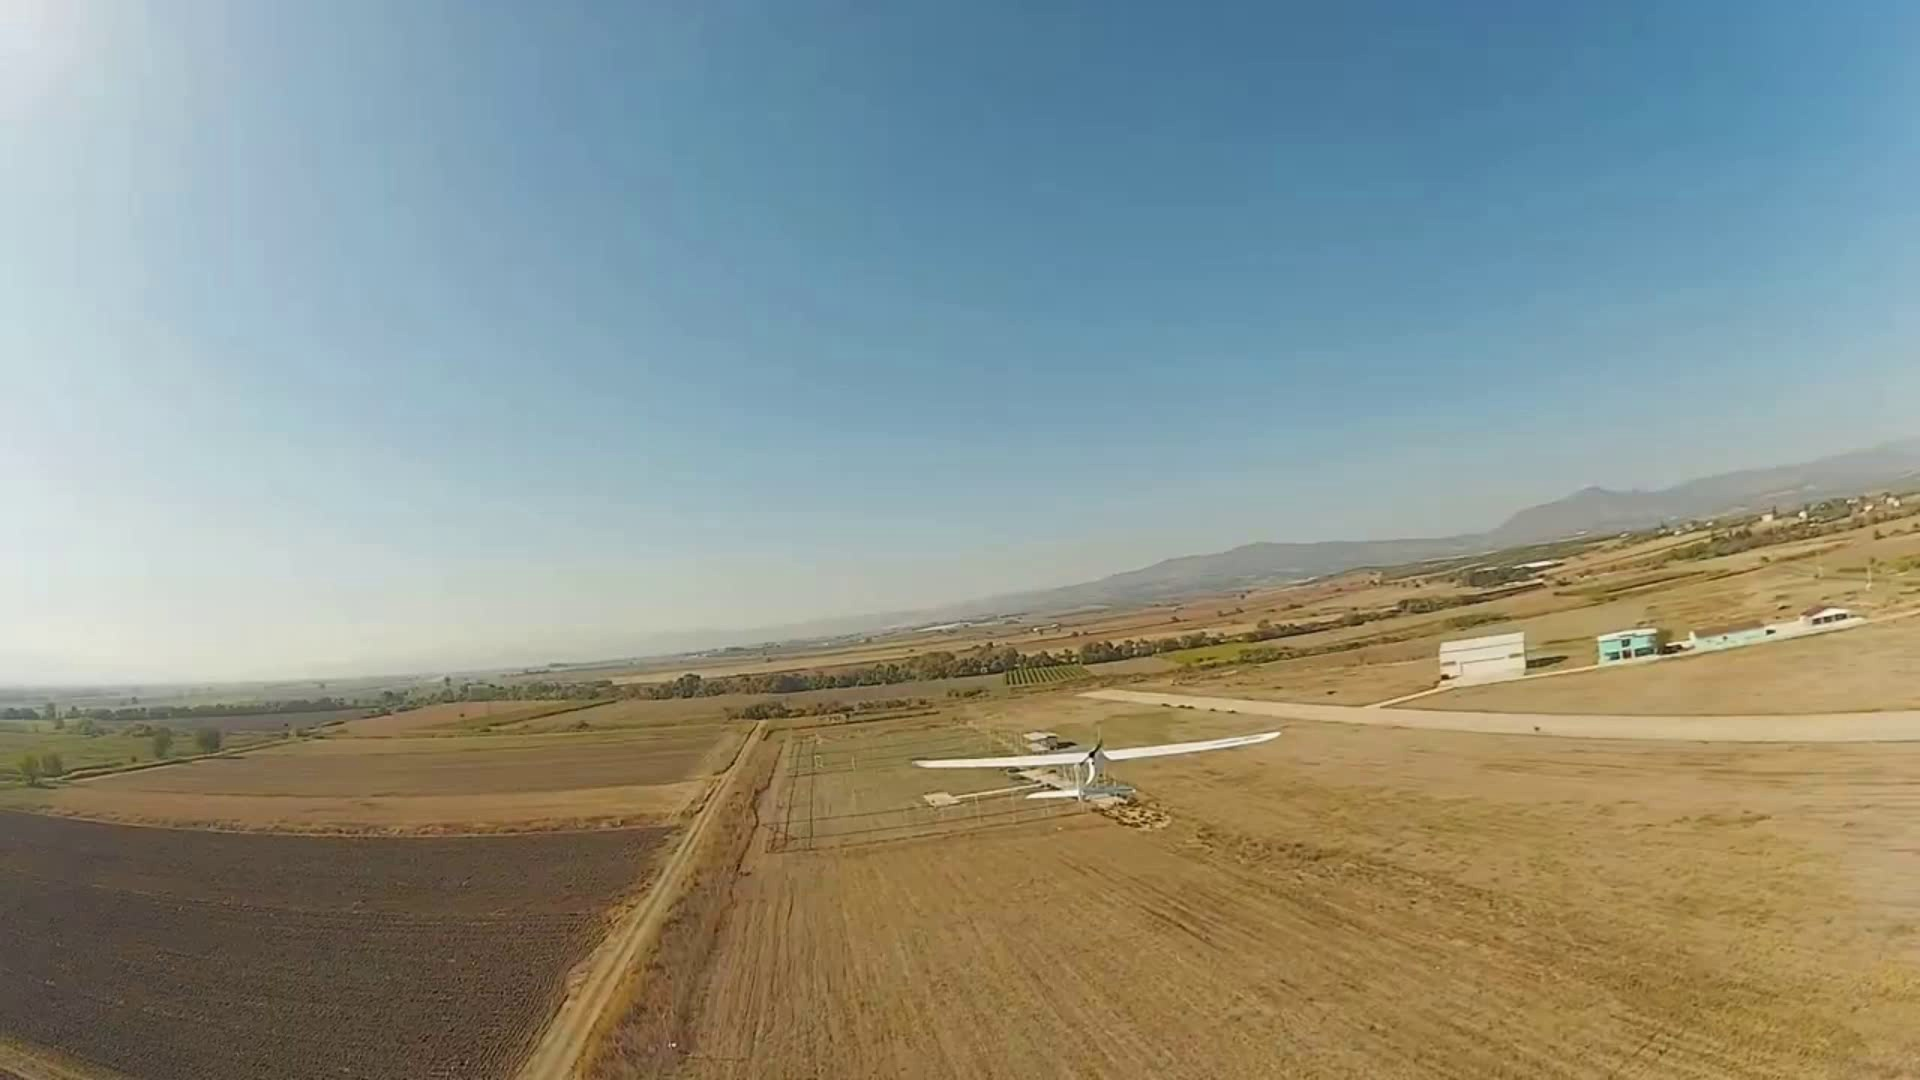airplane: (910, 711, 1284, 810)
